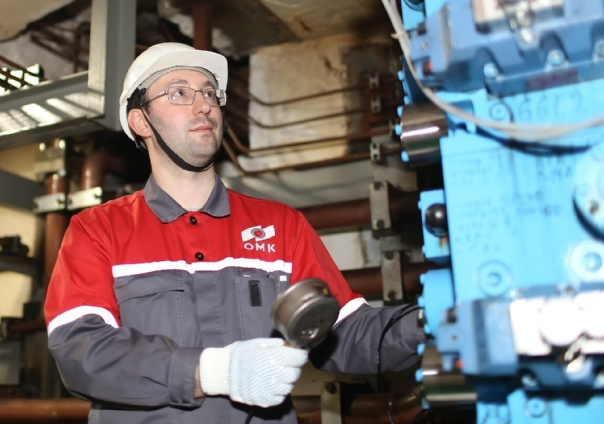person: (43, 42, 428, 424)
